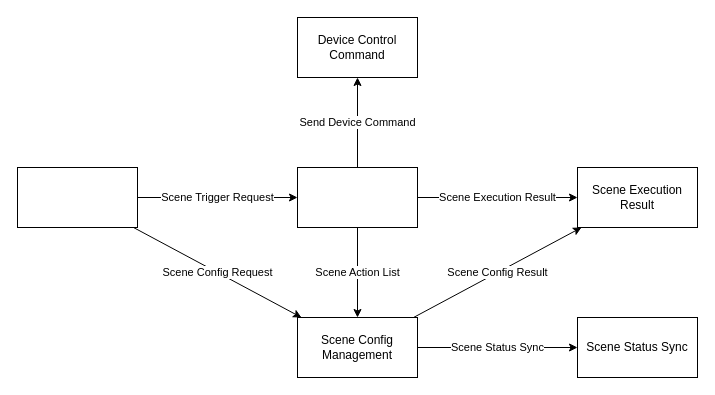
The diagram is 715 pixels wide and 395 high, and some of its shapes have lost their labels. The centre of each missing label's shape, as x and y in pixels:
"Scene Request" belongs at (77,197).
"Scene Trigger" belongs at (357,197).
